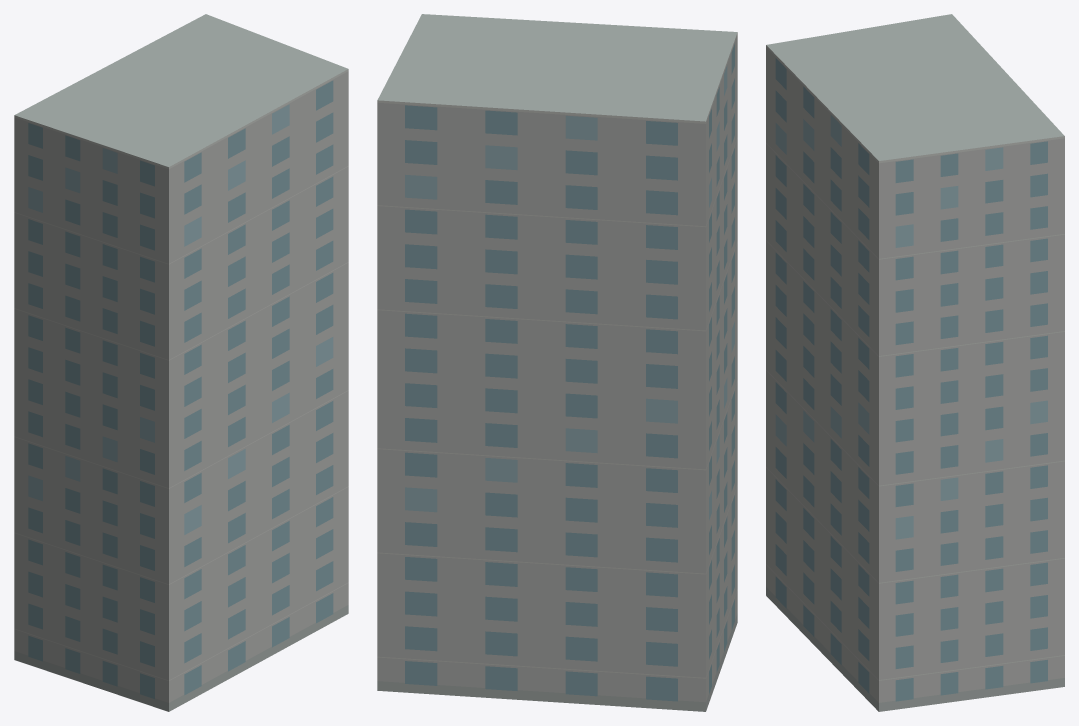
File: residential-8ec550f5-71aa-4f8d-8249-99b5167621b6.glb
3 renders of one model, left to right at view 1: azimuth 30°, elevation 25°; view 2: azimuth 150°, elevation 25°; view 3: azimuth 270°, elevation 25°, orthographic. The views are drawn at different scales.
Visible parts, largest first — view 1: residential-8ec550f5-71aa-4f8d-8249-99b5167621b6.tmp; view 2: residential-8ec550f5-71aa-4f8d-8249-99b5167621b6.tmp; view 3: residential-8ec550f5-71aa-4f8d-8249-99b5167621b6.tmp.
Boxes of the visible parts, x1,y1,x2,y2 form: residential-8ec550f5-71aa-4f8d-8249-99b5167621b6.tmp: (14, 14, 348, 711); residential-8ec550f5-71aa-4f8d-8249-99b5167621b6.tmp: (377, 14, 737, 711); residential-8ec550f5-71aa-4f8d-8249-99b5167621b6.tmp: (766, 14, 1064, 711).
Size of the model in its own units: 34.97 by 61 by 30.
